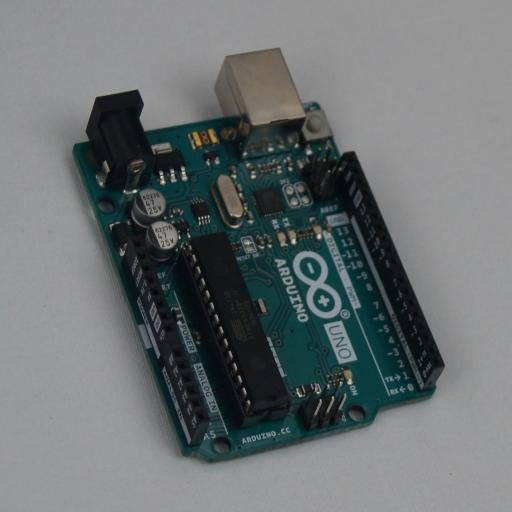Arduino Uno -Green-: (72, 48, 445, 463)
